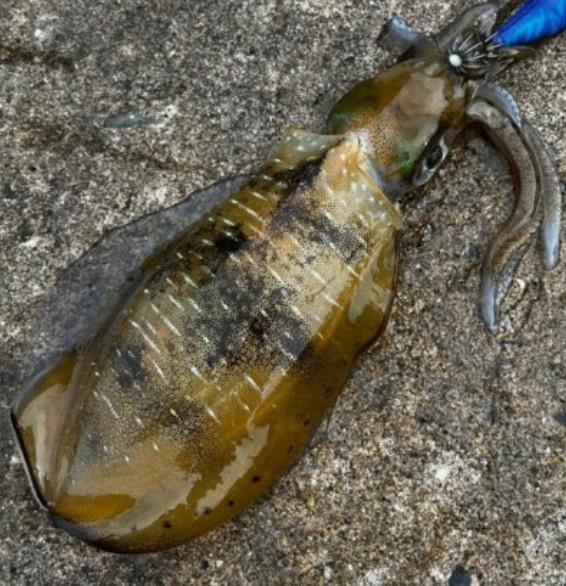Cephalopod: (11, 2, 561, 551)
